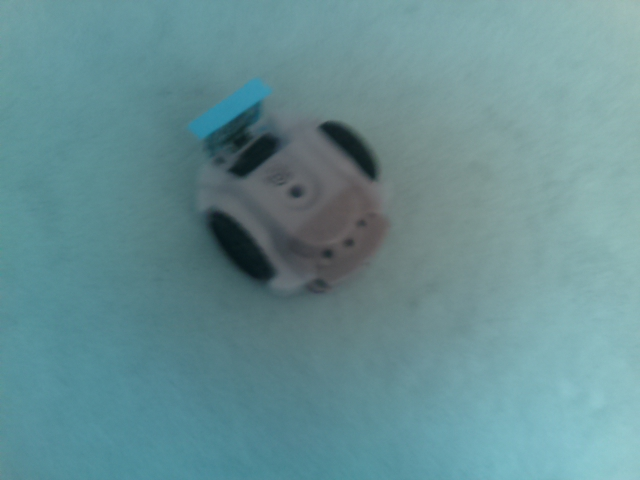board: (176, 75, 281, 151)
chassis: (182, 72, 397, 302)
